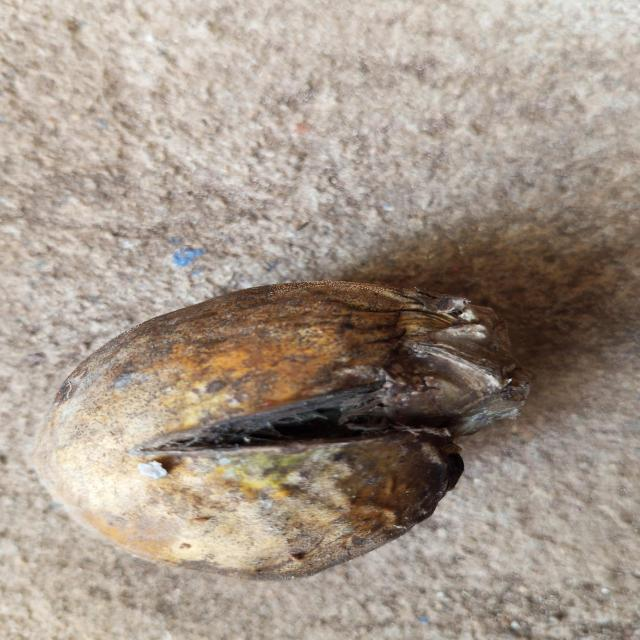damaged: (35, 281, 530, 579)
